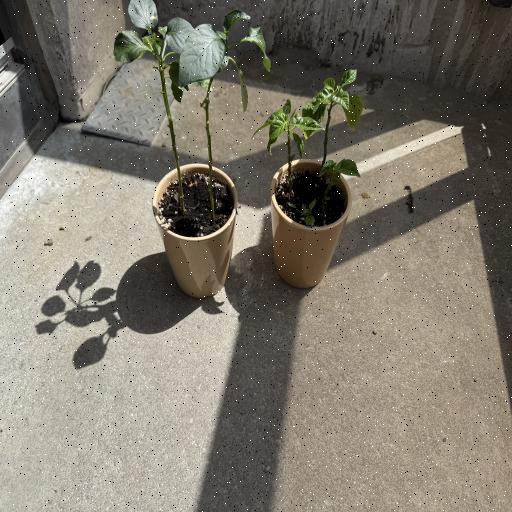Plant Pot: (152, 161, 238, 297), (268, 159, 355, 290)
